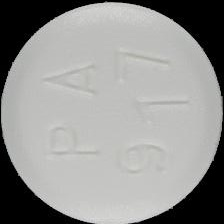0615-5575: (0, 0, 224, 224)
